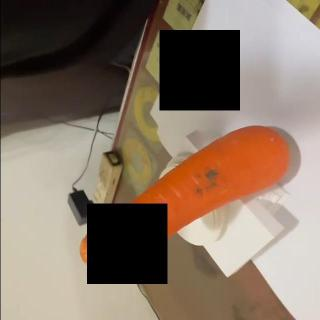carrot: (78, 124, 292, 268)
